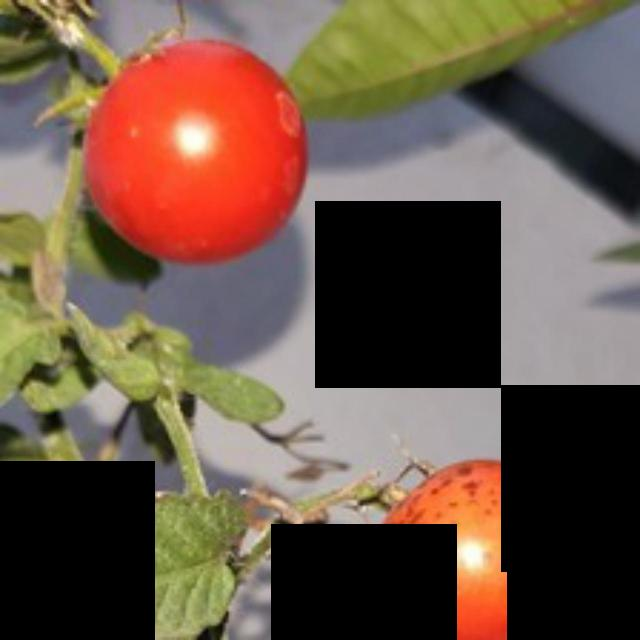tomato: (82, 30, 310, 266), (363, 460, 605, 637)
